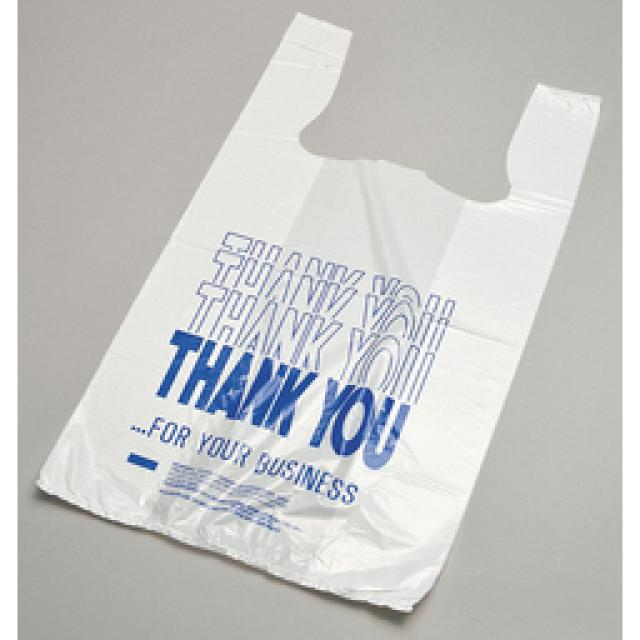plastic: (38, 15, 600, 610)
